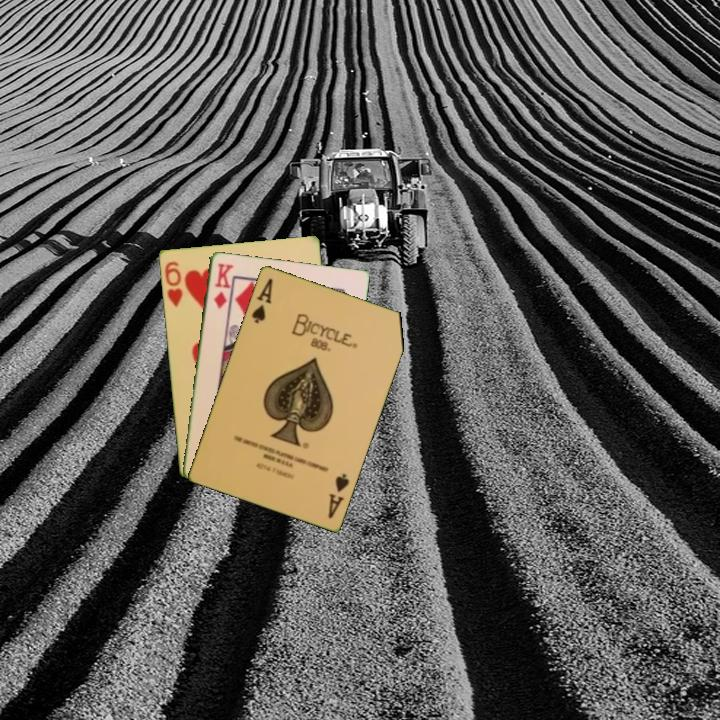6h: (161, 257, 185, 310)
As: (248, 274, 276, 326), (324, 470, 352, 521)
Kd: (210, 260, 234, 312)
